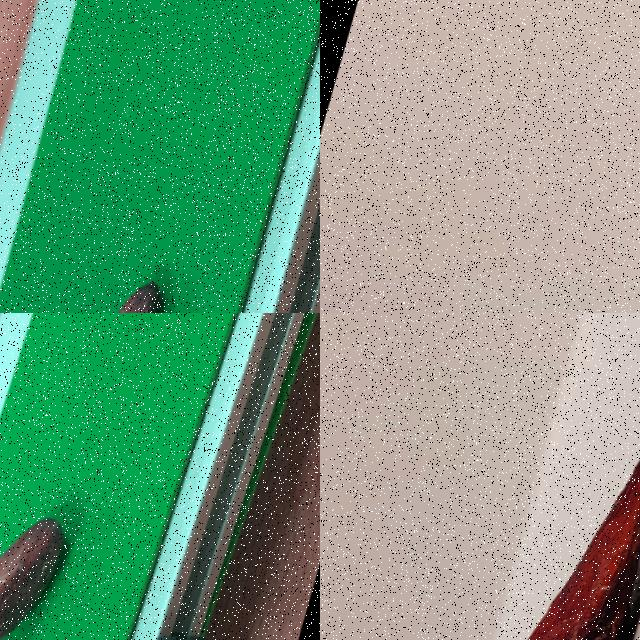Fine_cocoabeans: (0, 418, 147, 639)
Flat_cocoabeans: (443, 366, 639, 639), (19, 210, 242, 312)
